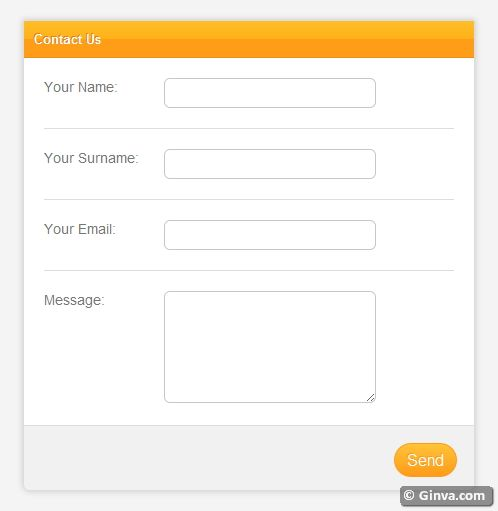_form_: (25, 24, 441, 440), (72, 95, 488, 511)
button: (393, 442, 459, 478)
field: (163, 292, 379, 405), (163, 77, 377, 110), (162, 147, 376, 180), (163, 218, 376, 251)
field_with_label: (44, 290, 381, 407), (45, 145, 379, 182), (45, 75, 380, 111), (44, 217, 377, 252)
